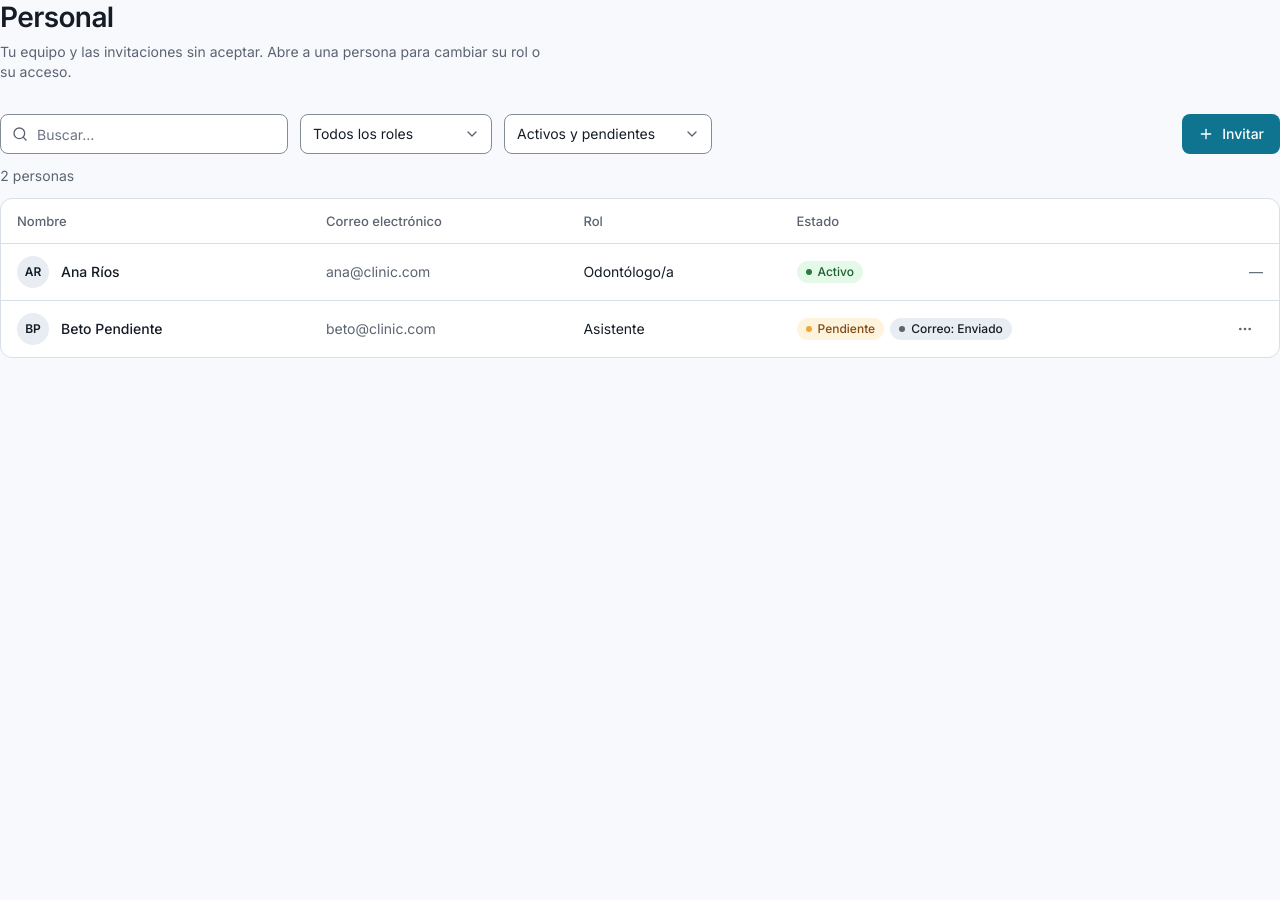
Test: StaffView › un 429 (tope de envíos) muestra el mensaje de la API sin «Reintentar»
The image size is (1280, 900).
Expected: the table named "personal" is shown, [1,199,1279,356]
Click the button named "acciones de Beto" at [1245, 328], box [1227,310,1263,346]
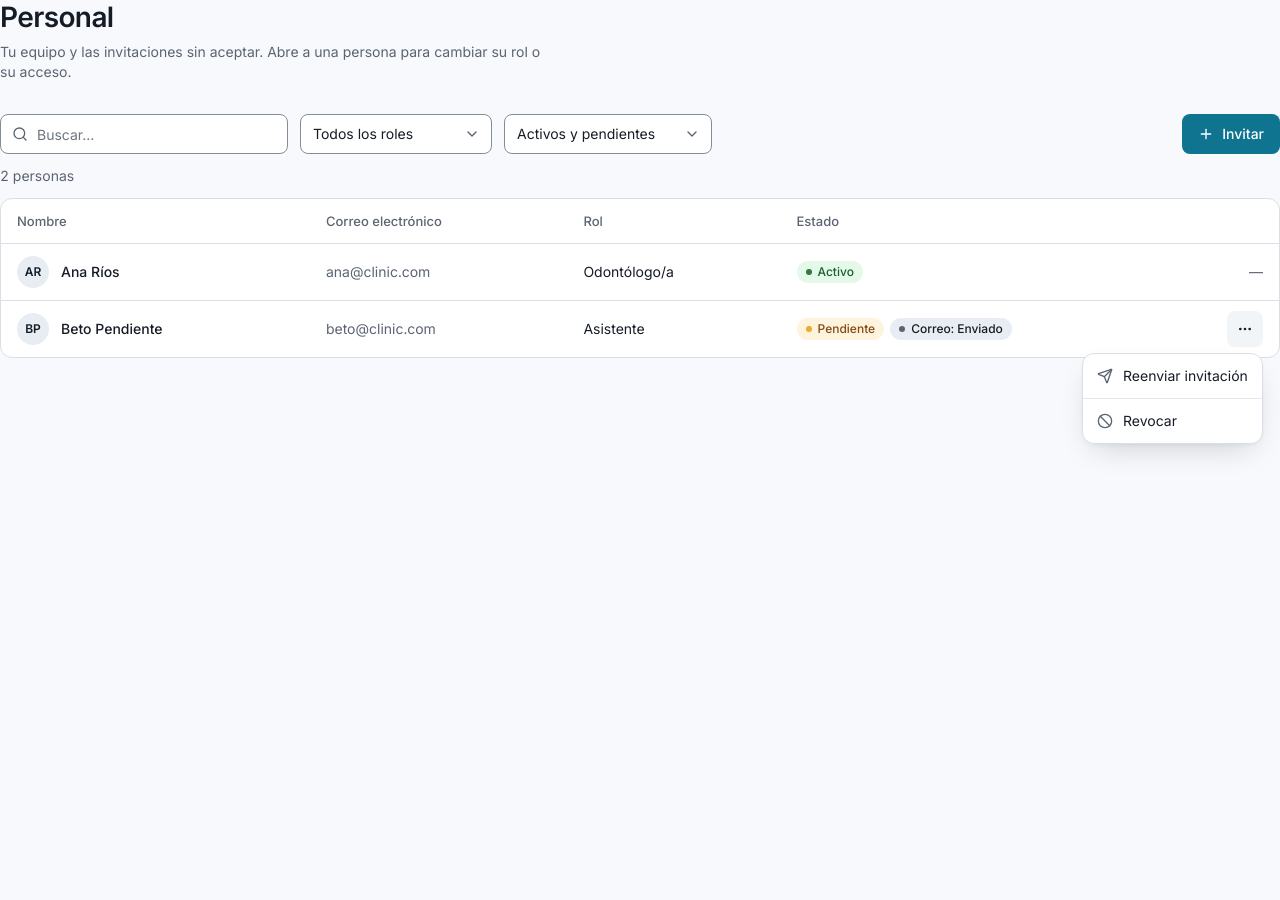
Click the menu item "Reenviar invitación" at [1172, 376], box [1097,367,1248,384]
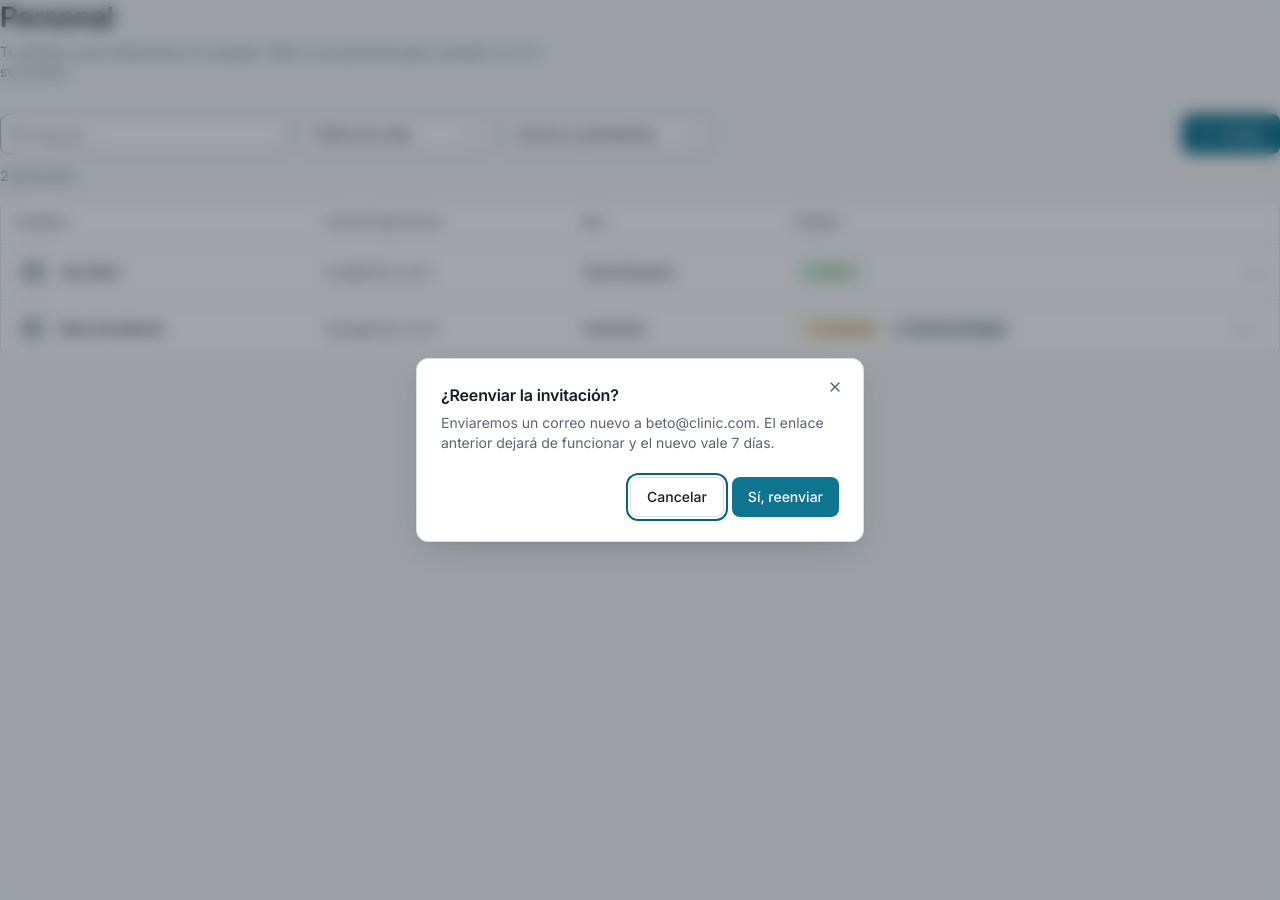
Click the button "Sí, reenviar" at [785, 497], box [732,477,839,517]
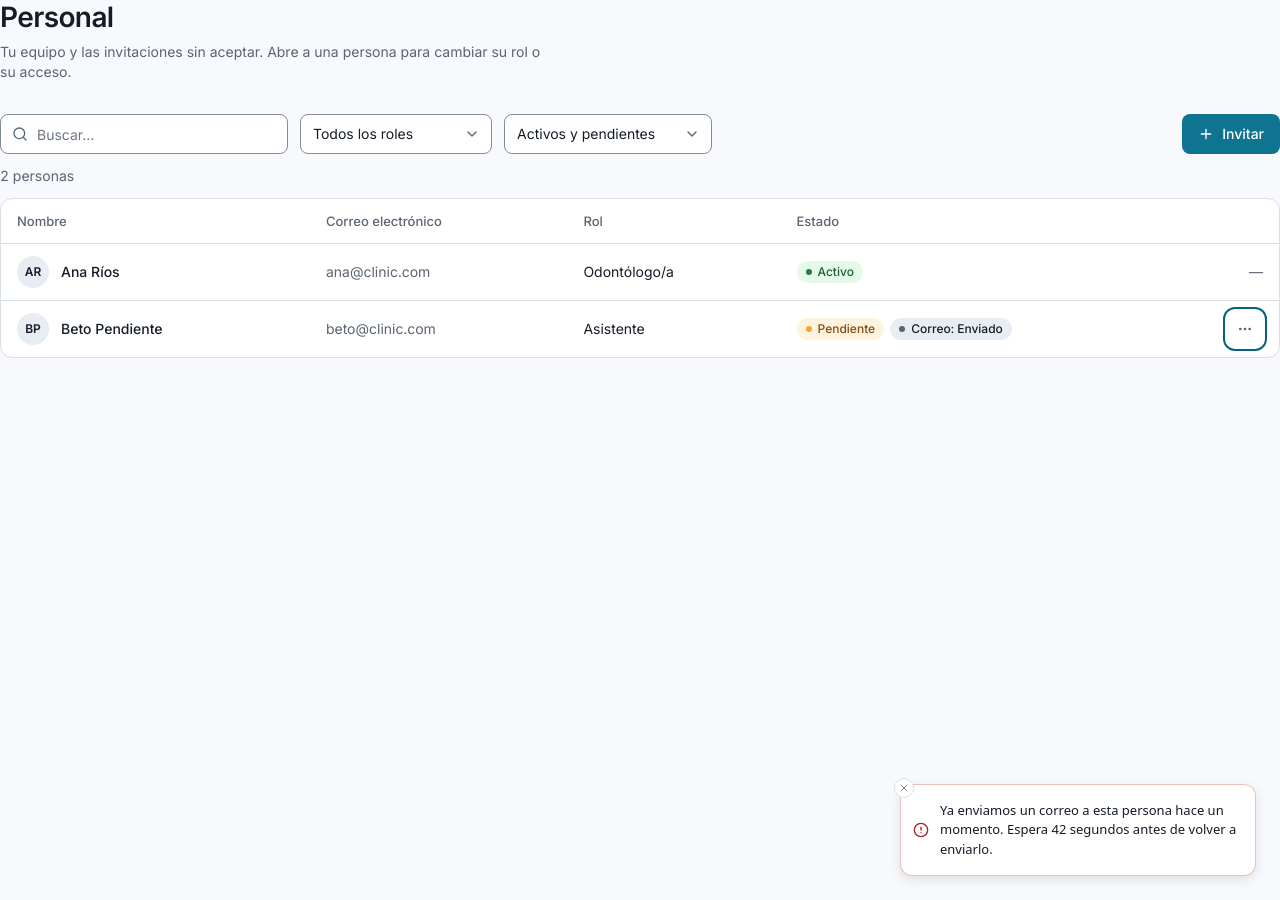
Now the text "Espera 42 segundos" is shown, box [940,800,1236,858]
